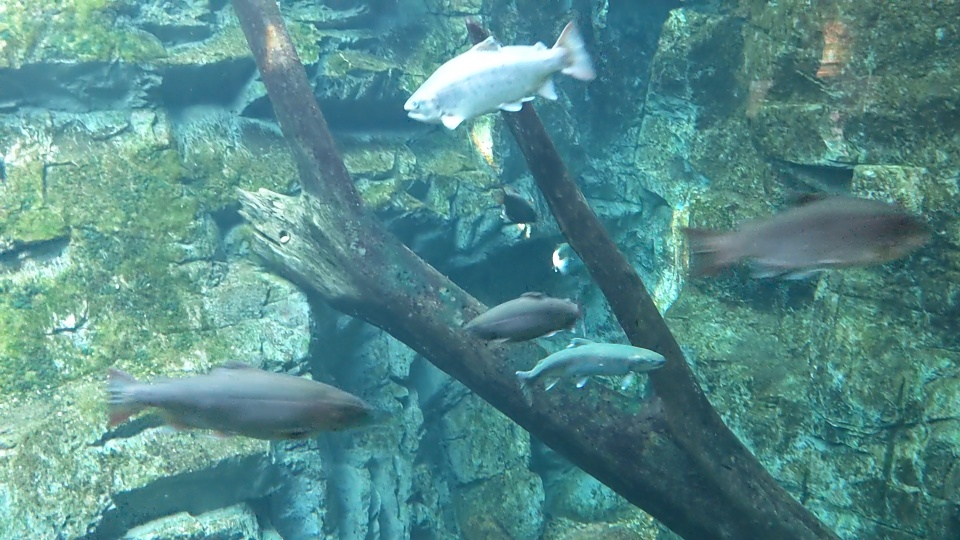Fish: (99, 357, 376, 445), (668, 188, 930, 274), (402, 24, 594, 128), (511, 341, 664, 410), (458, 298, 580, 349), (484, 187, 547, 233)
